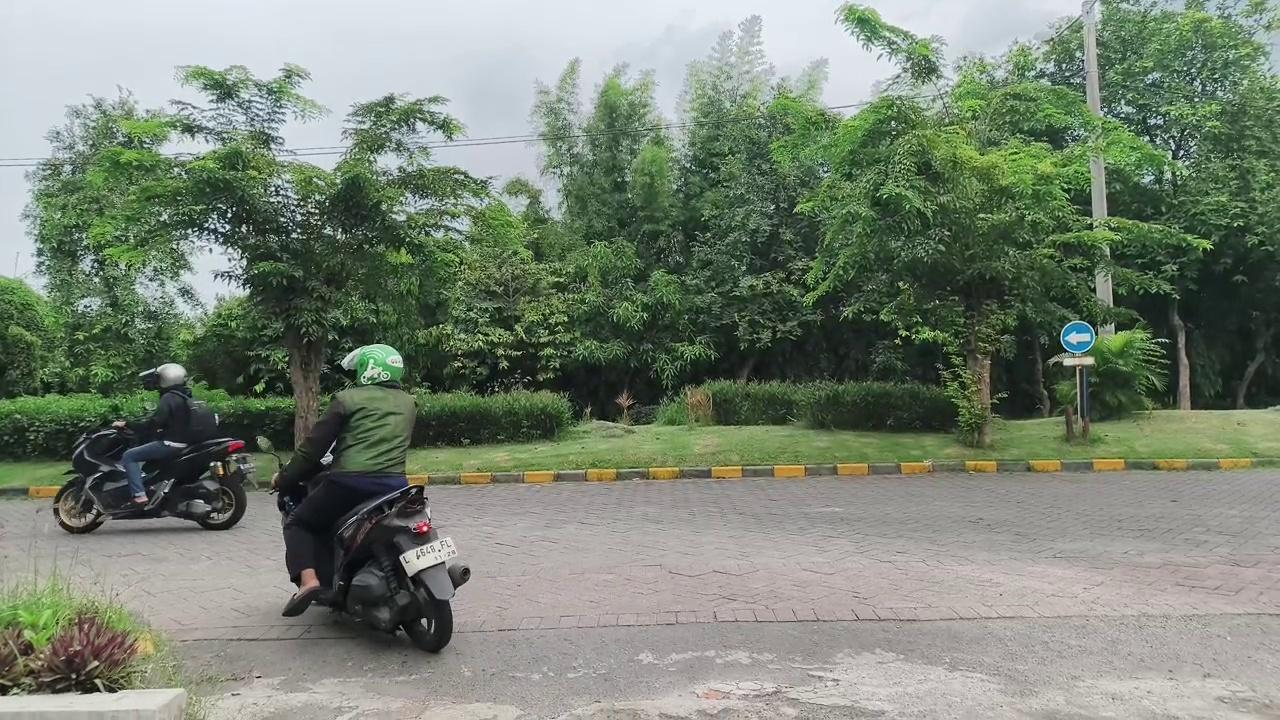Helmet: (272, 344, 415, 616), (113, 363, 202, 505)
Motor: (315, 485, 470, 652), (53, 428, 254, 533)
